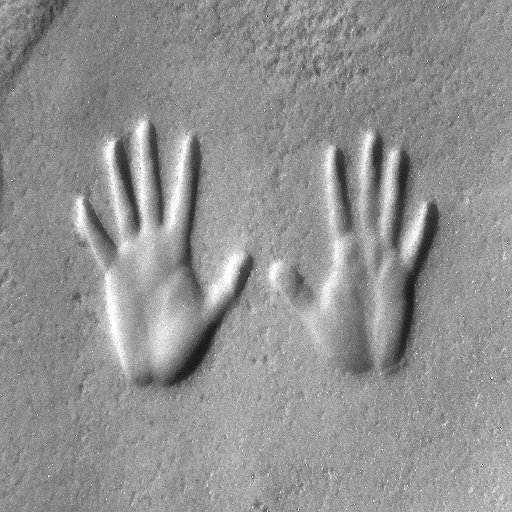hand: (78, 117, 251, 386), (305, 119, 446, 402)
